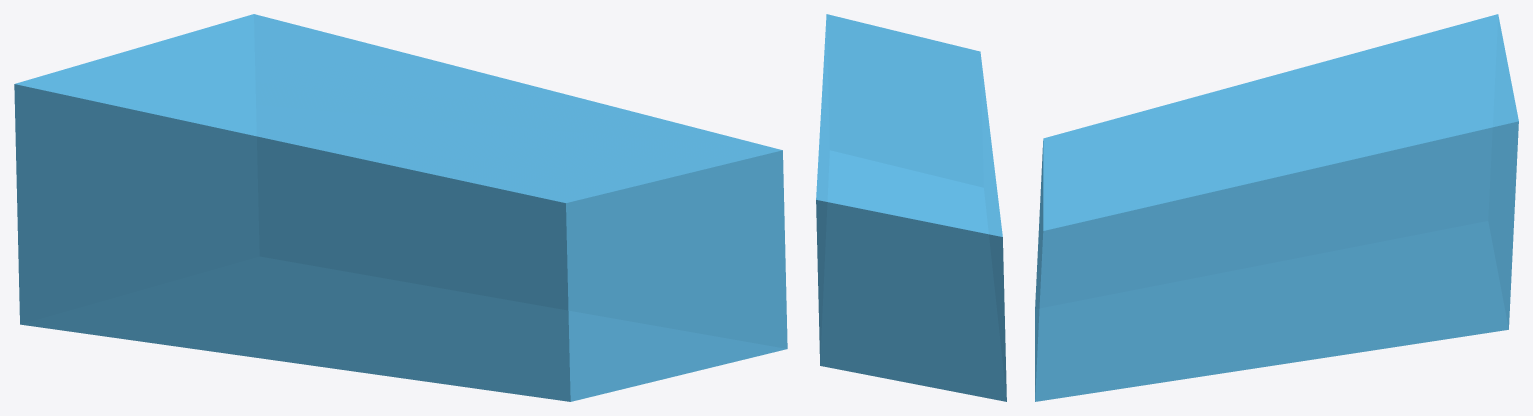
File: Event_421127236_HBrechit_10.fbx
3 views of the same model, side by side, from view 1: azimuth 30°, elevation 25°; view 2: azimuth 150°, elevation 25°; view 3: azimuth 270°, elevation 25° (orthographic). The views are drawn at different scales.
Parts seen in each view (by area): view 1: Model; view 2: Model; view 3: Model.
Boxes of the visible parts, x1=… form: Model: x1=14, y1=14, x2=787, y2=401; Model: x1=816, y1=14, x2=1006, y2=401; Model: x1=1035, y1=14, x2=1518, y2=401.
Size of the model in its own units: 1.09 by 0.4895 by 1.03.
